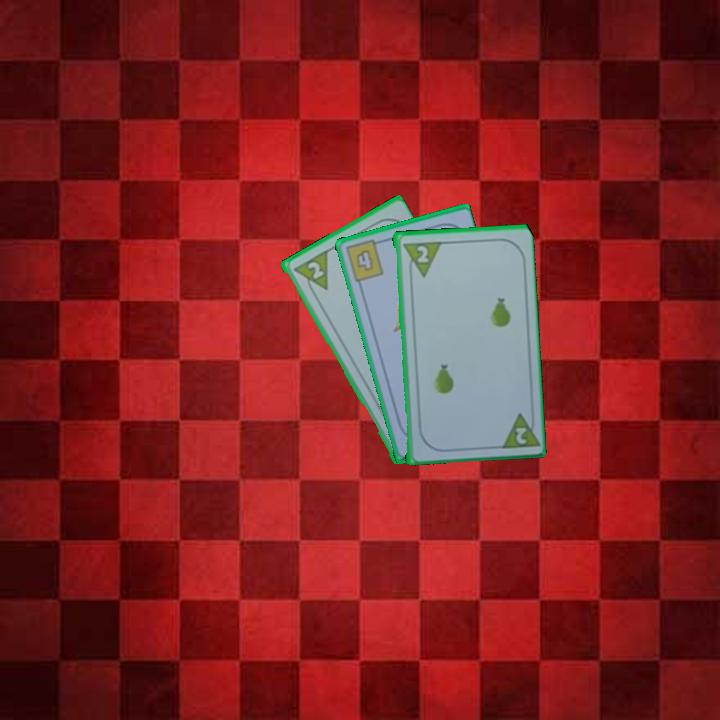2p: (399, 237, 442, 280), (303, 257, 326, 282), (511, 423, 529, 447)
4b: (341, 236, 386, 285)
